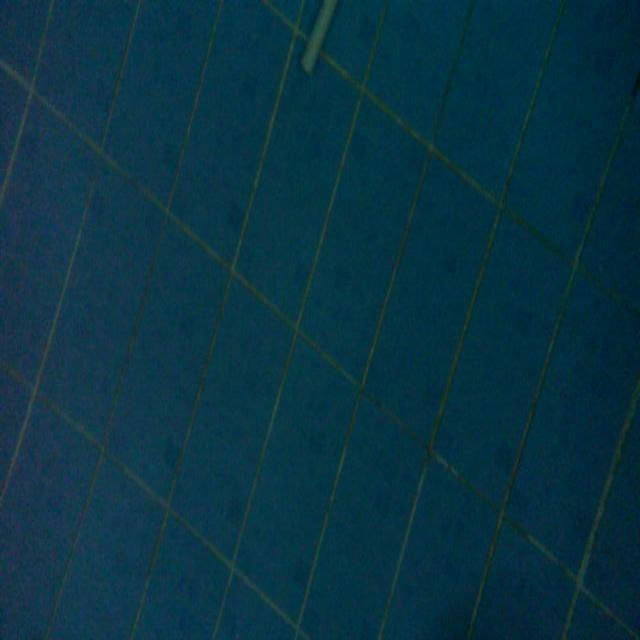Cube: (299, 0, 337, 76)
